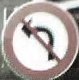Don't turn left: (2, 3, 74, 73)
